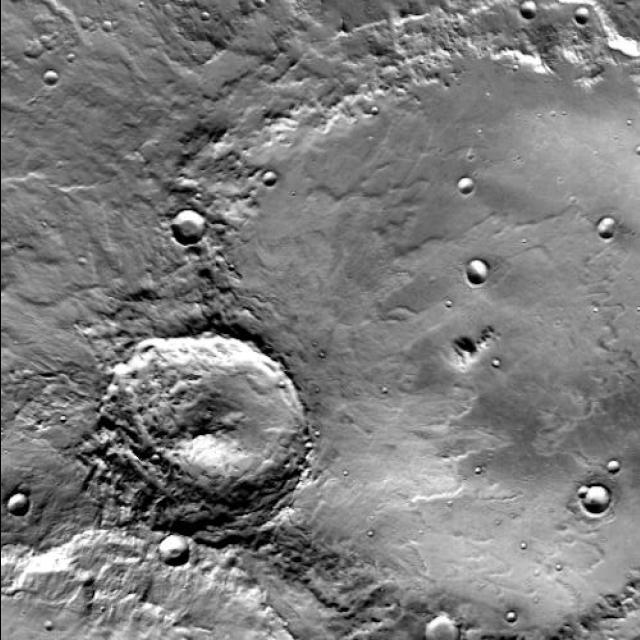crater: (176, 0, 640, 640), (0, 293, 398, 640), (58, 314, 330, 564), (176, 502, 418, 640), (514, 495, 640, 640), (0, 572, 70, 640)
